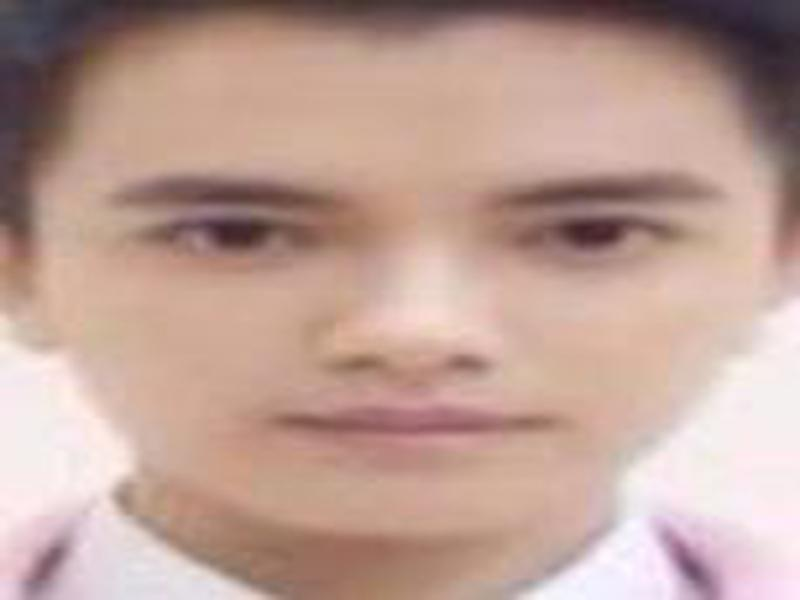without_mask: (28, 97, 778, 542)
